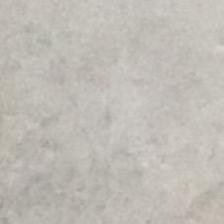Non_Crack: (19, 48, 201, 185)
